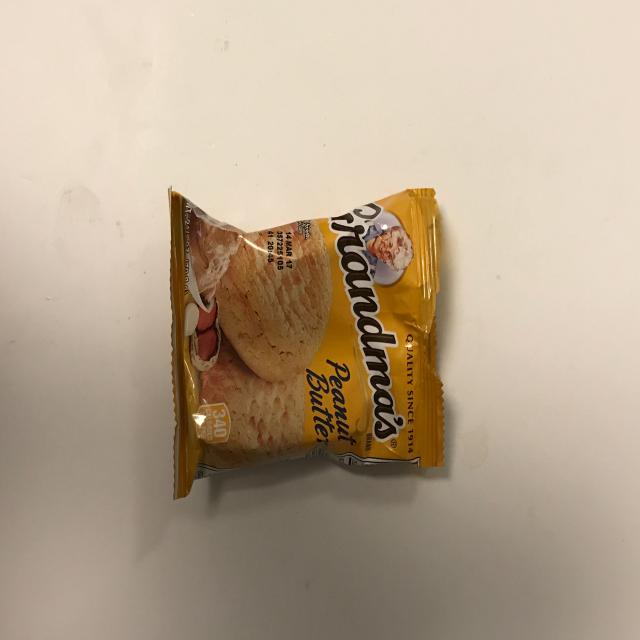trash: (168, 186, 446, 499)
